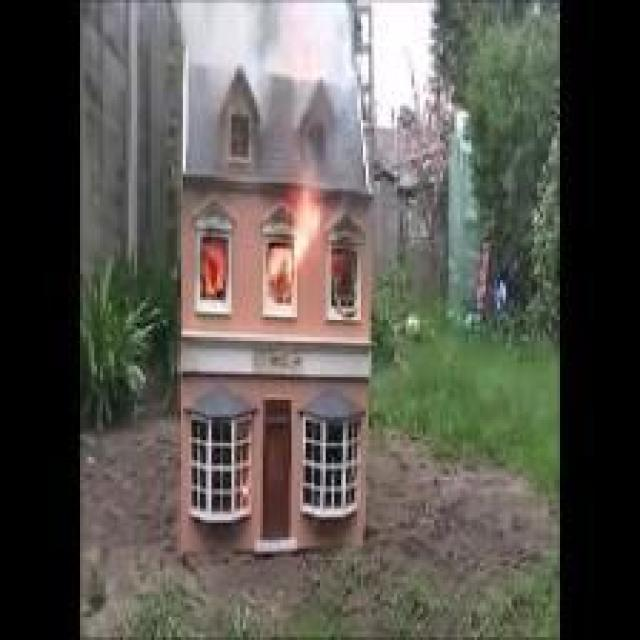fire: (263, 179, 329, 286), (198, 231, 227, 299)
